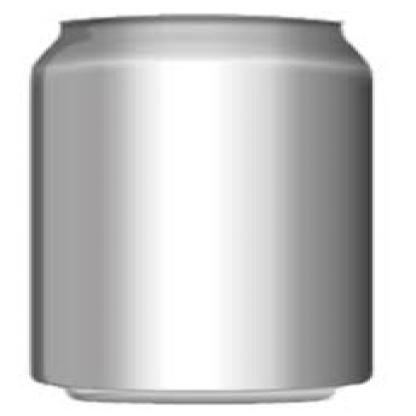METAL: (29, 12, 370, 400)
